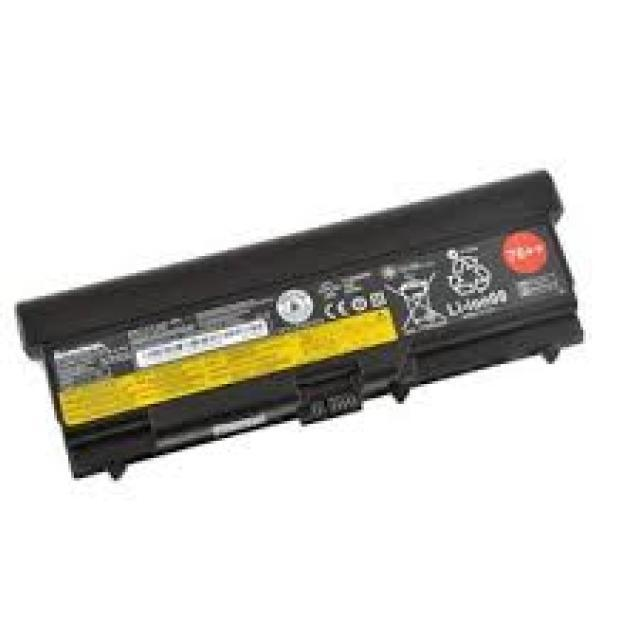battery: (18, 169, 584, 481)
